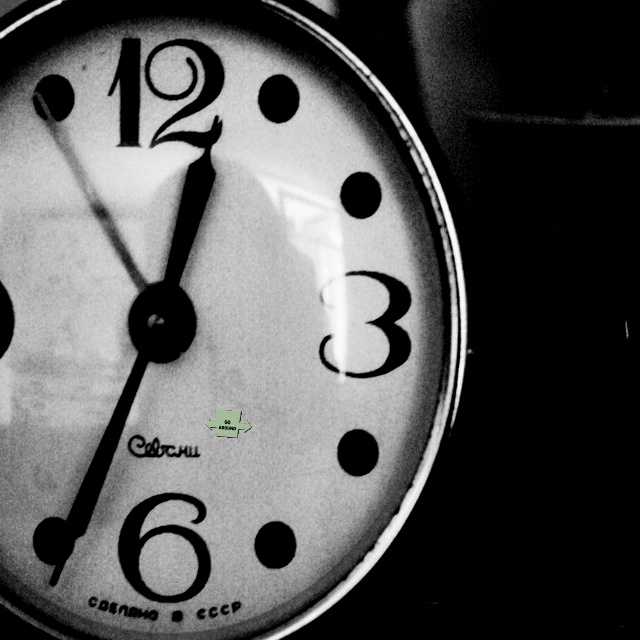GO_AROUND: (204, 409, 252, 438)
